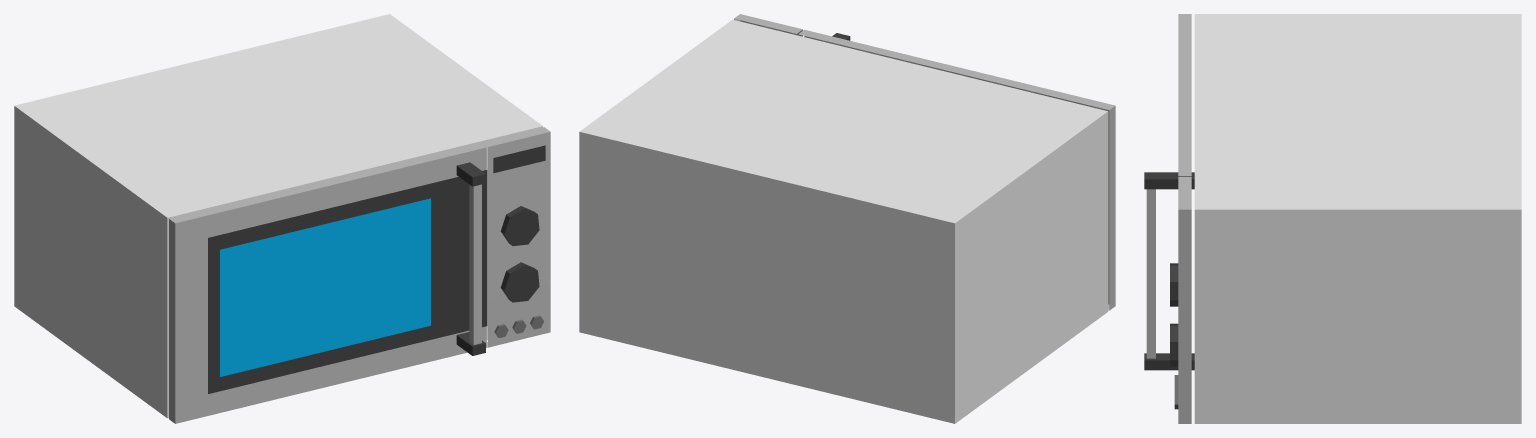
File: SM_microwave_oven_001.FBX
3 views of the same model, side by side, from view 1: azimuth 30°, elevation 25°; view 2: azimuth 150°, elevation 25°; view 3: azimuth 270°, elevation 25° (orthographic). The views are drawn at different scales.
Visible parts, largest first — view 1: SM_microwave_oven_001; view 2: SM_microwave_oven_001; view 3: SM_microwave_oven_001.
Boxes of the visible parts, box(x1,y1,x2,y2) form: SM_microwave_oven_001: box(14, 14, 550, 423); SM_microwave_oven_001: box(579, 14, 1115, 423); SM_microwave_oven_001: box(1144, 14, 1521, 423).
Size of the model in its own units: 51.49 by 41.97 by 26.27.
